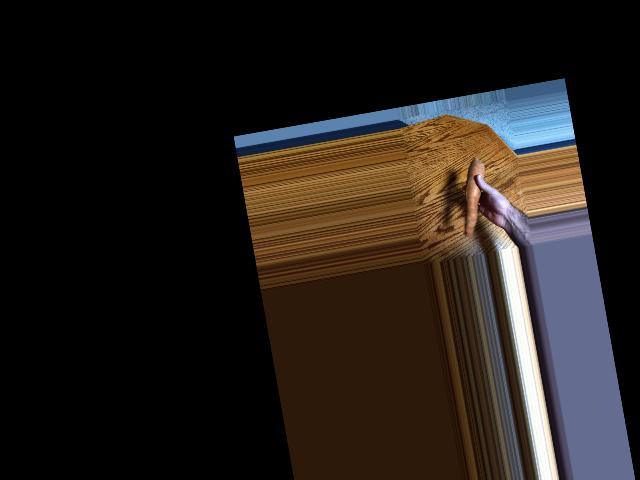sweet_potato: (458, 158, 492, 240)
